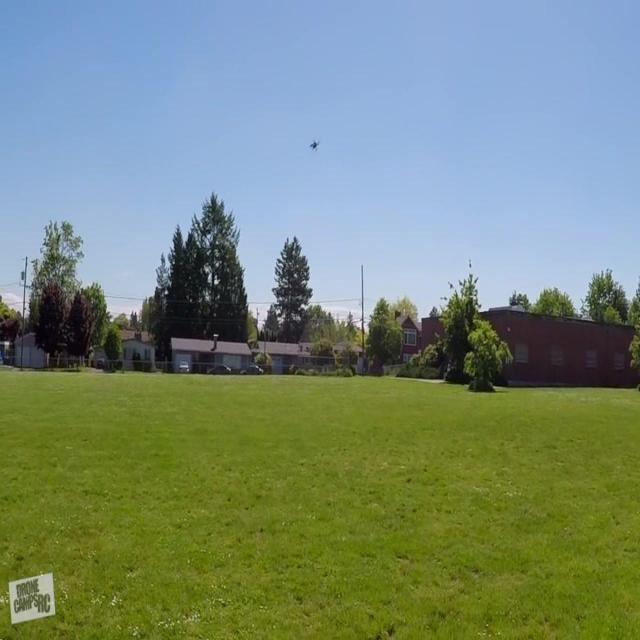UAV: (309, 141, 320, 151)
